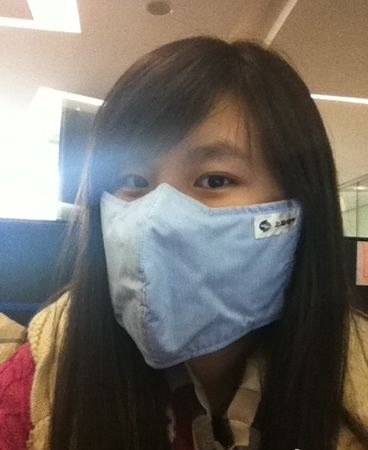face_mask: (101, 91, 277, 368)
